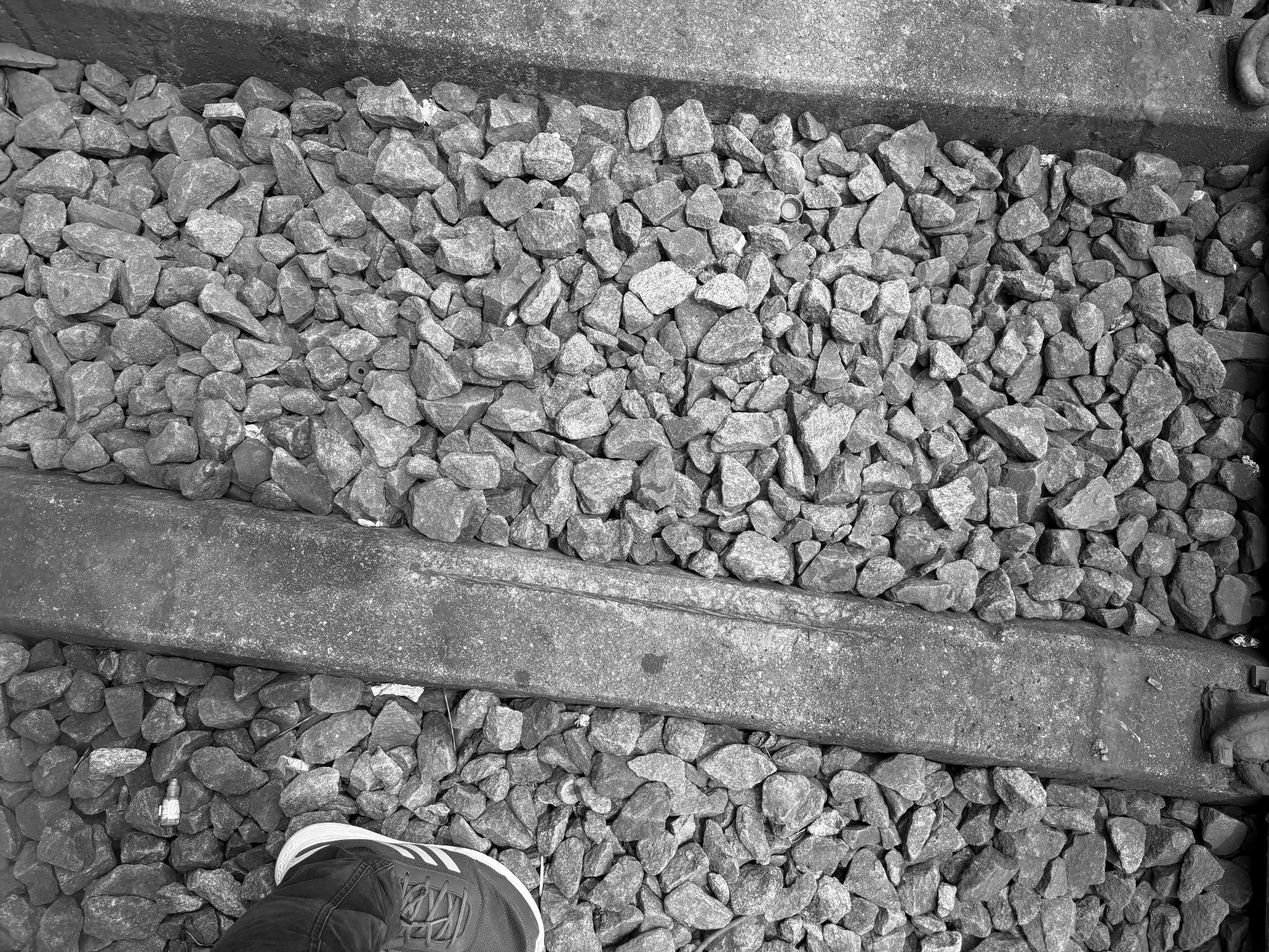cracks in midportion: (372, 533, 939, 674)
